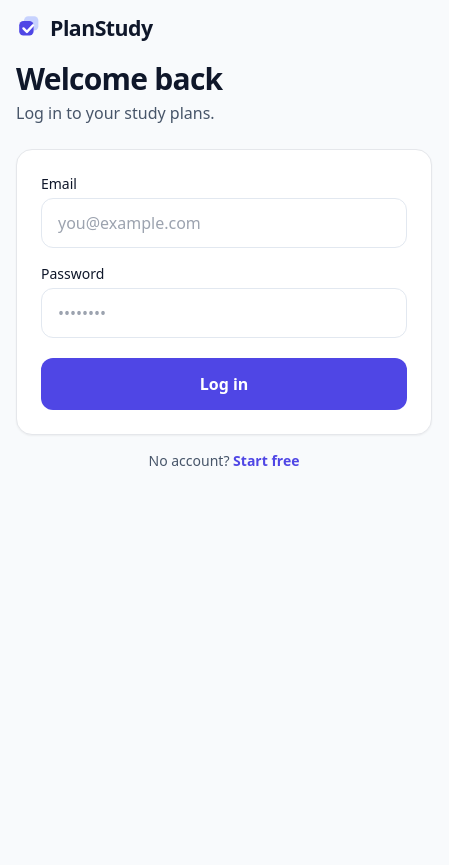
Scenario: Login › shows the friendly message on unconfirmed-email errors, not the raw error
The image size is (449, 865).
Step 1. Type "test@example.com" into the field labelled "Email" → [224, 223], box [41,198,407,248]
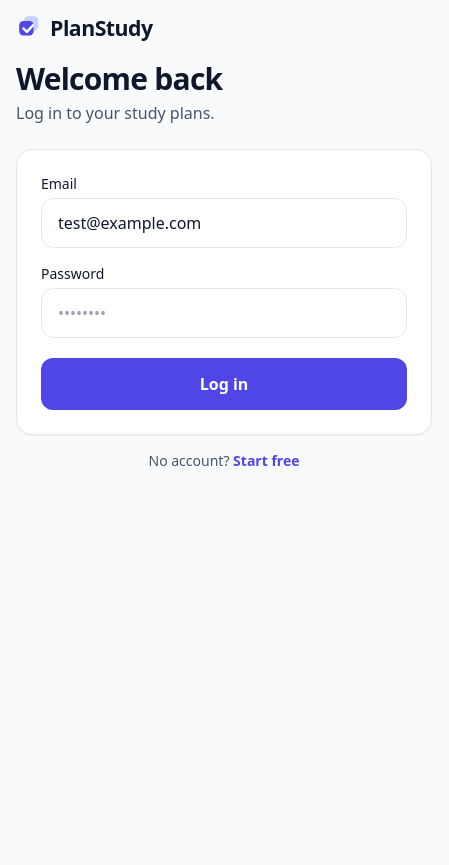
Step 2. Type "password123" into the password field labelled "Password" → [224, 313], box [41,288,407,338]
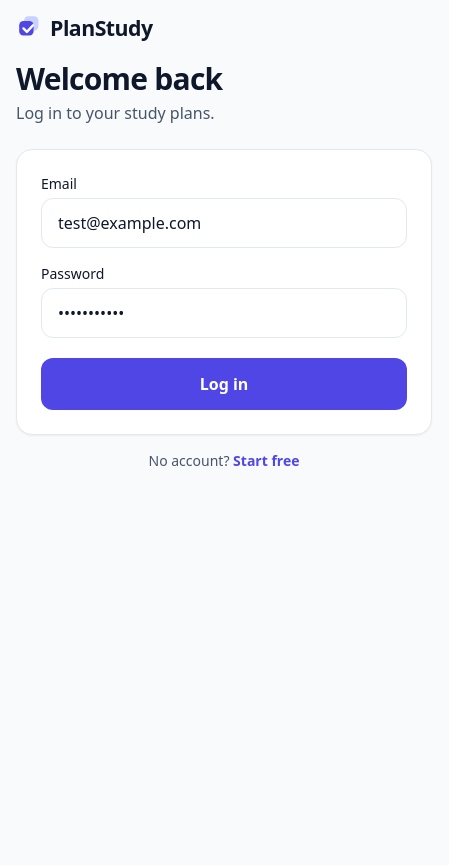
Step 3. Submit the form, box [16,149,432,435]
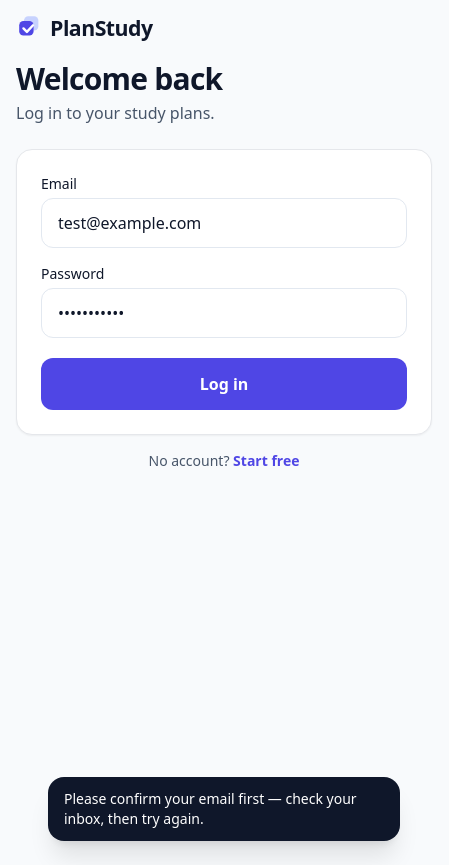
Now the text "Please confirm your email first — check your inbox, then try again." is shown, box [48,777,400,841]
